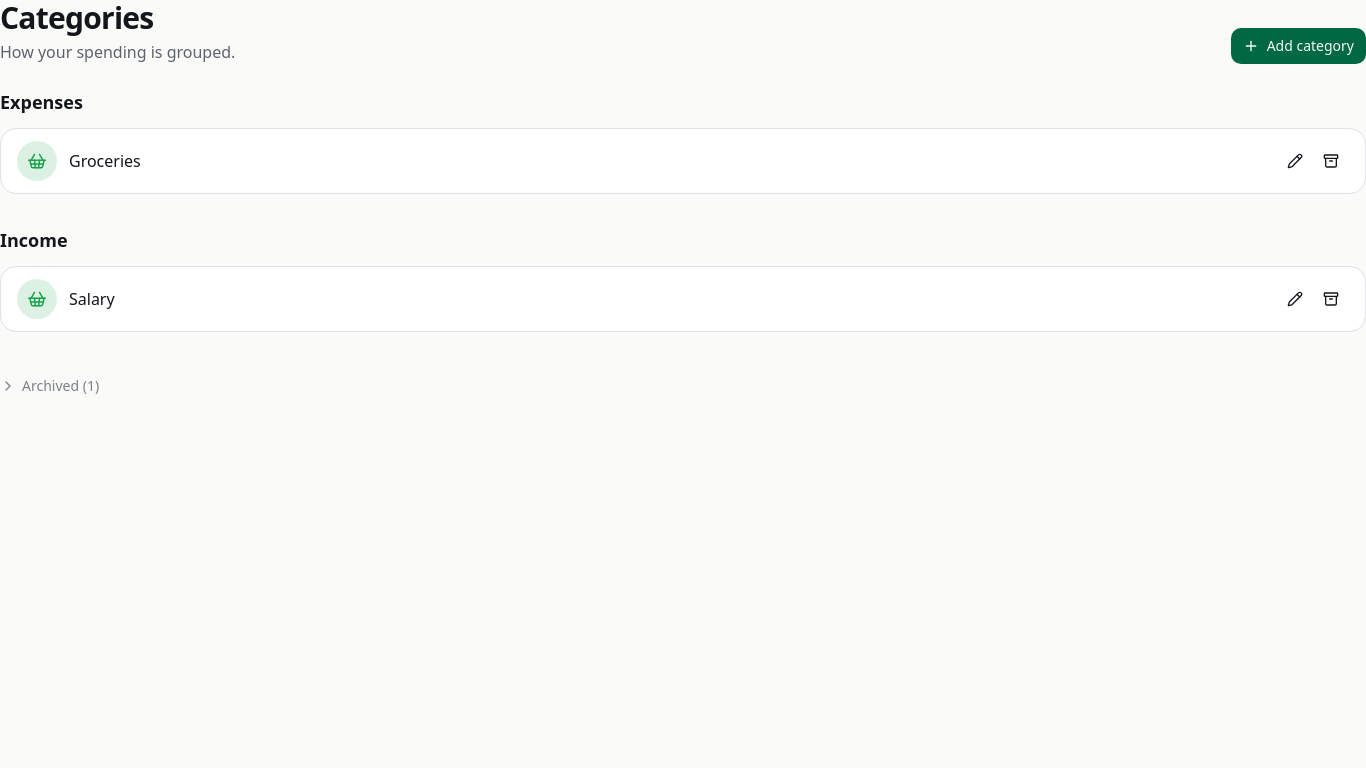
Test: CategoriesPage › refuses a name a category of the same type already shows, and reveals that one
Click the button "Add category". click: [1298, 46]
box: left=1231, top=28, right=1365, bottom=64
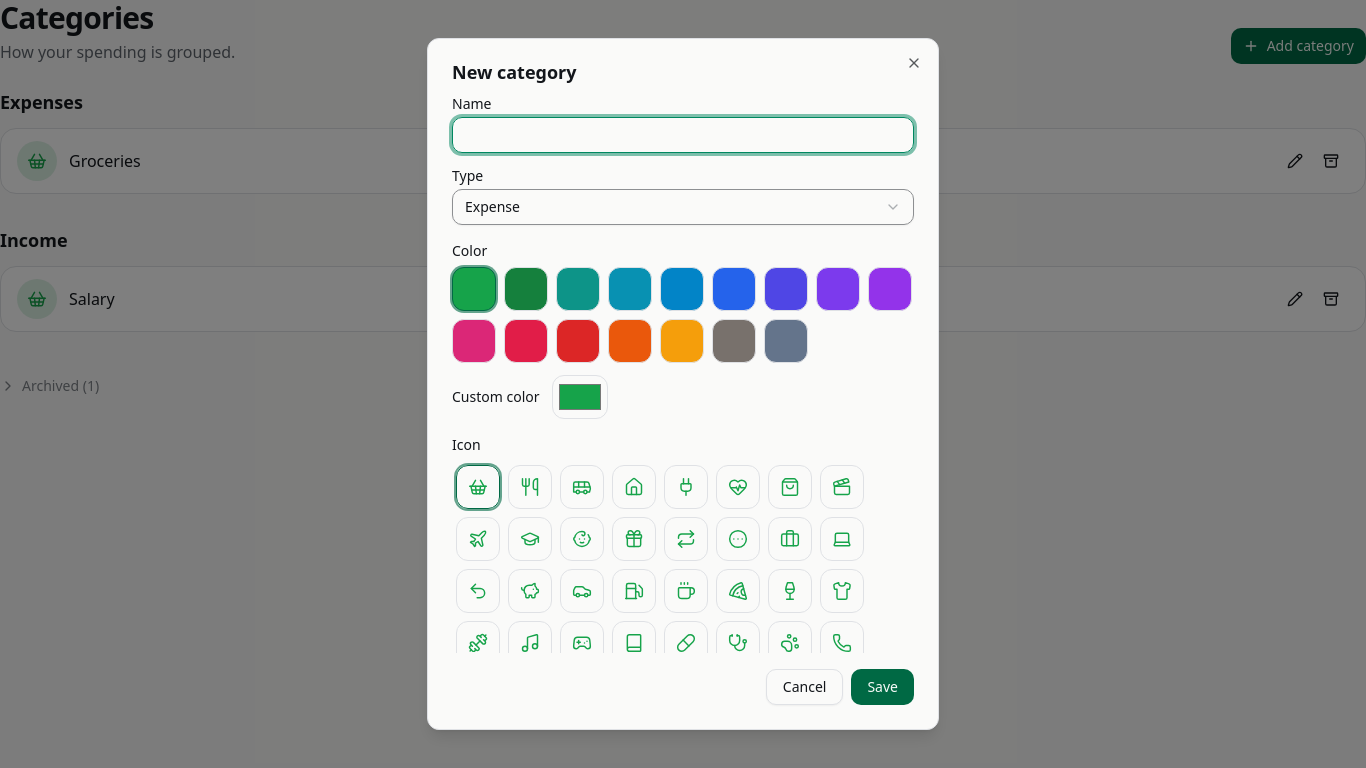
Type "  groceries " into the field labelled "Name". click: [683, 135]
box: left=452, top=117, right=914, bottom=153
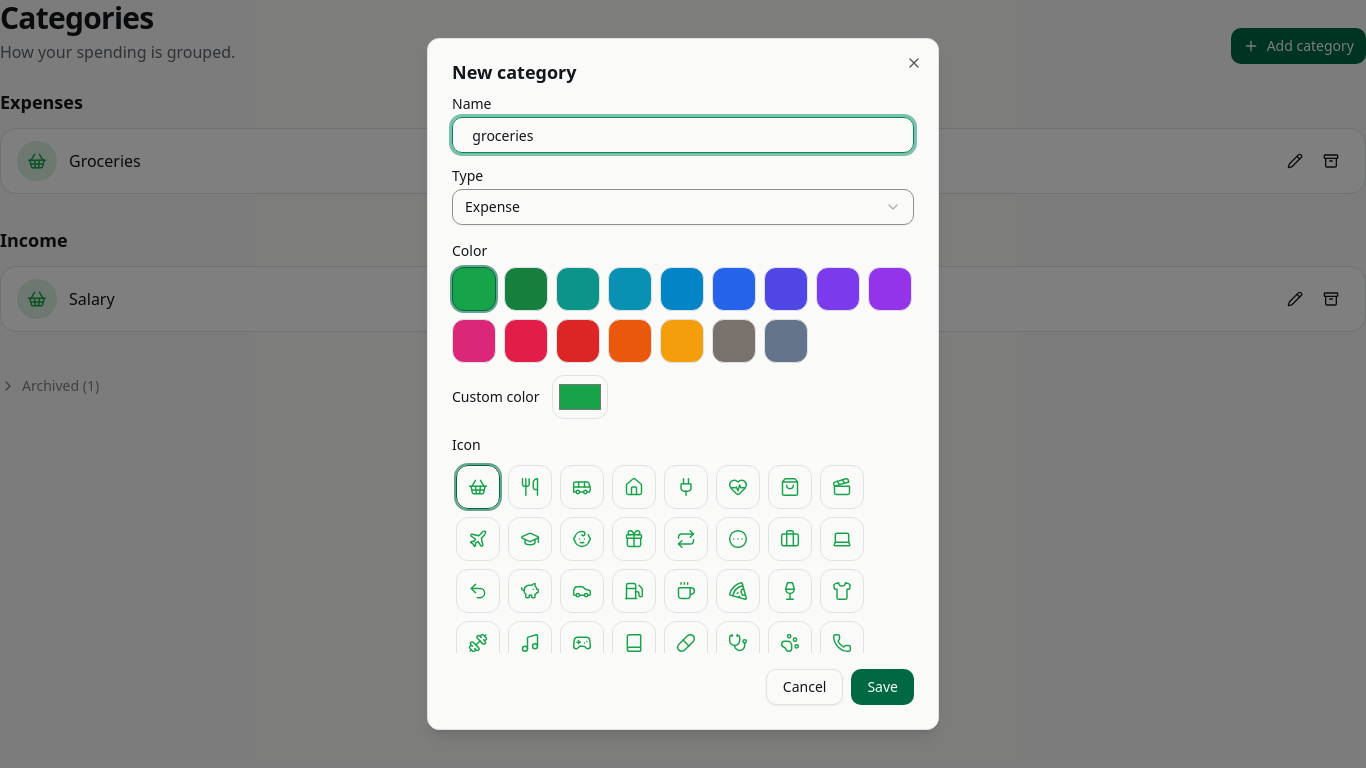
Click the button "Save". click: [883, 687]
box: left=851, top=669, right=914, bottom=705
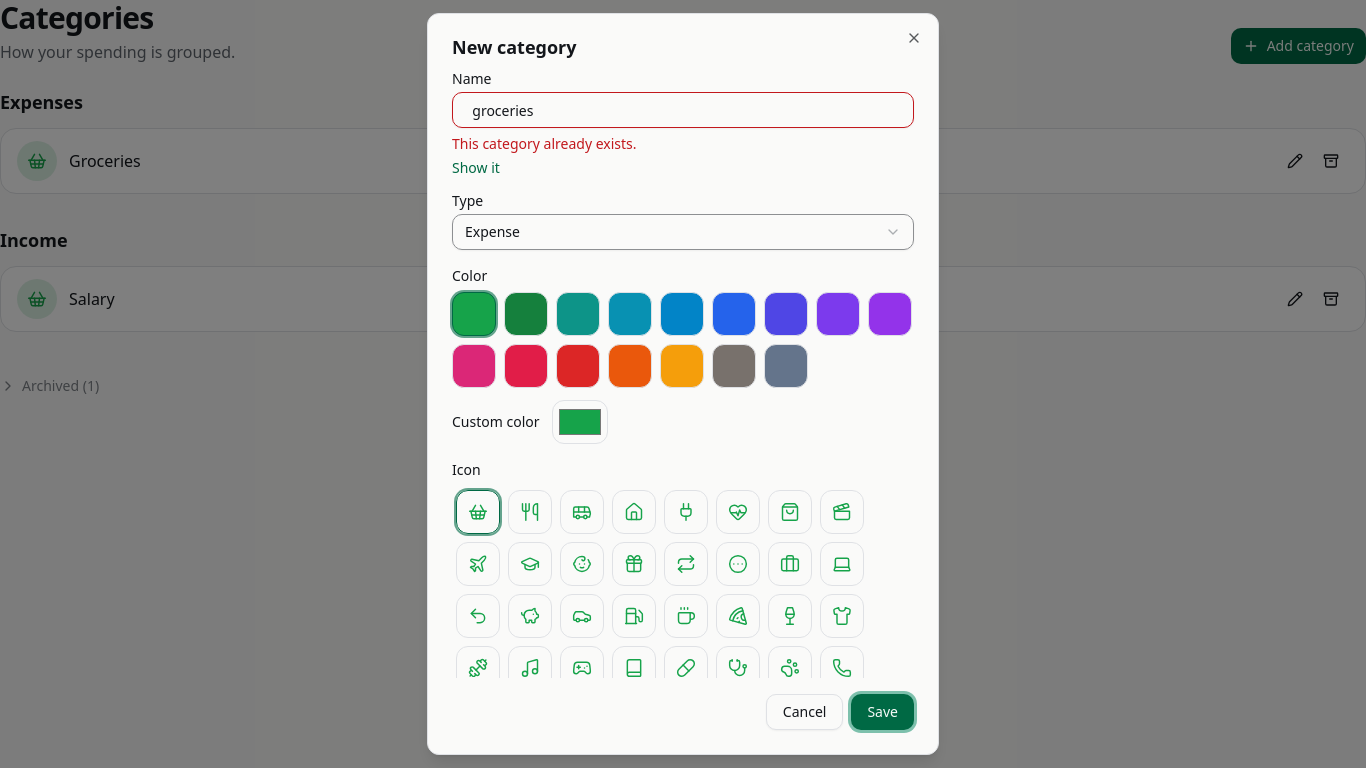
Check: the text "This category already exists." is shown, box left=452, top=134, right=636, bottom=153
Click the button "Show it". click: [476, 168]
box: left=452, top=158, right=500, bottom=178
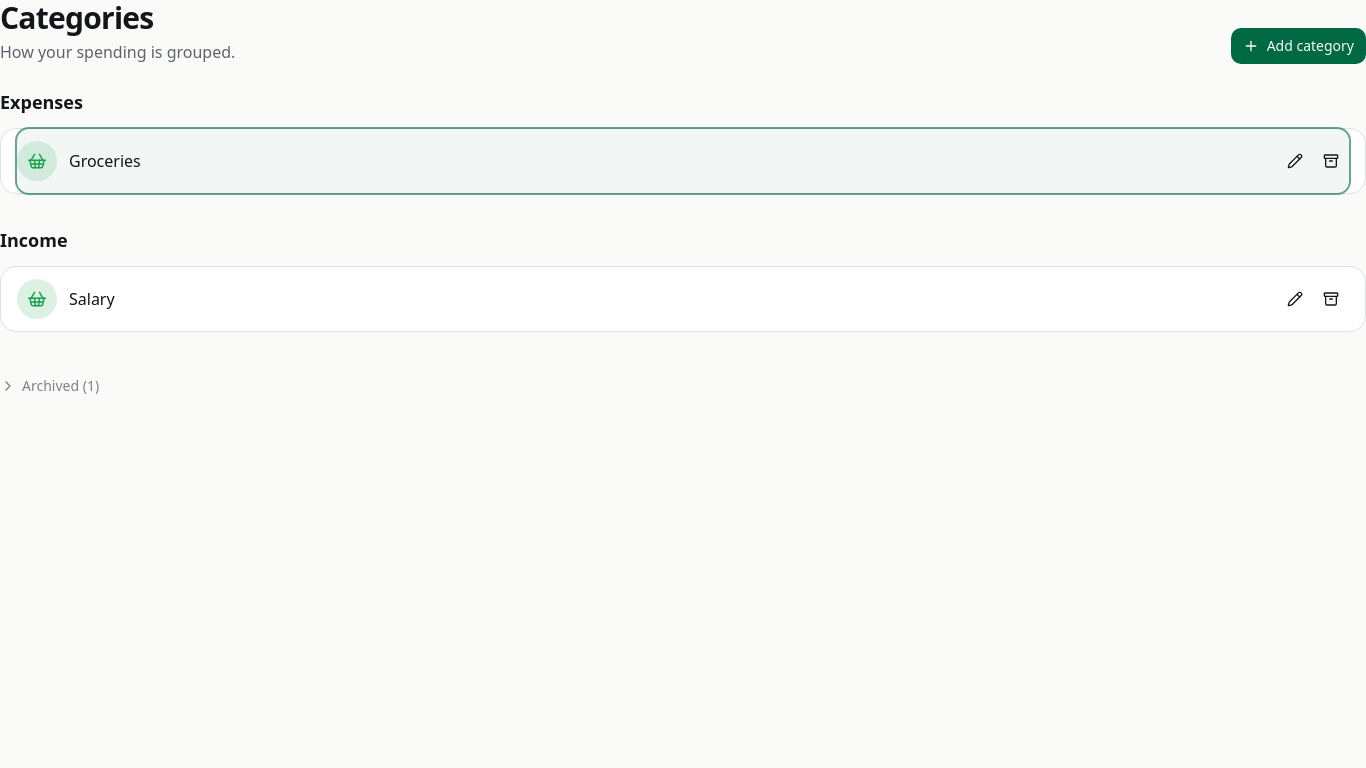
Check: the dialog is gone
